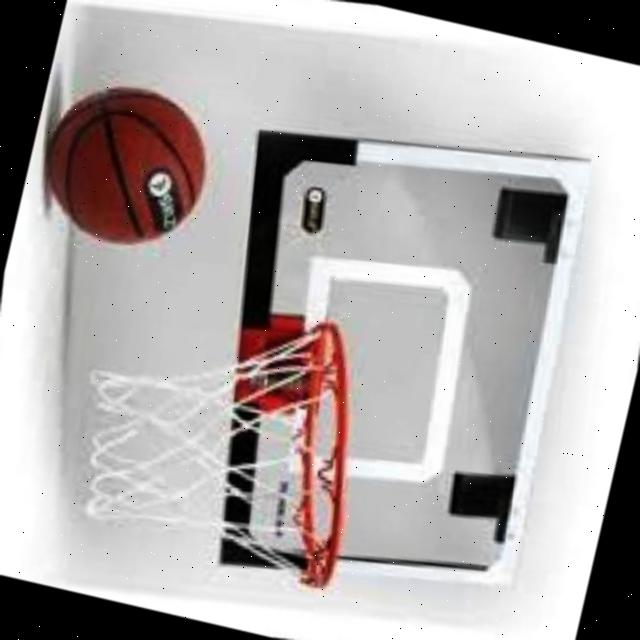ball: (22, 60, 232, 270)
hoop: (264, 315, 396, 589)
